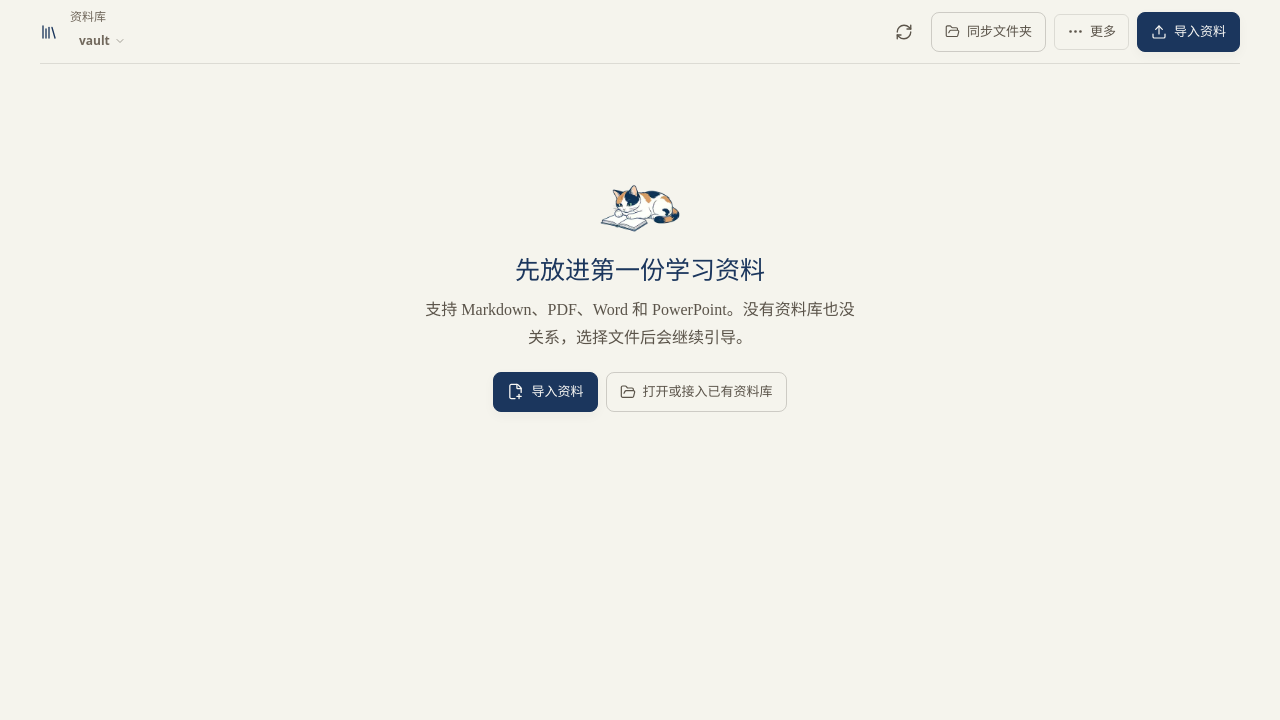
Test: 资料库文件夹同步 › 按钮会同步并渲染可行动的摘要
Click the button "同步文件夹" at coordinates (988, 32), box left=931, top=12, right=1046, bottom=52
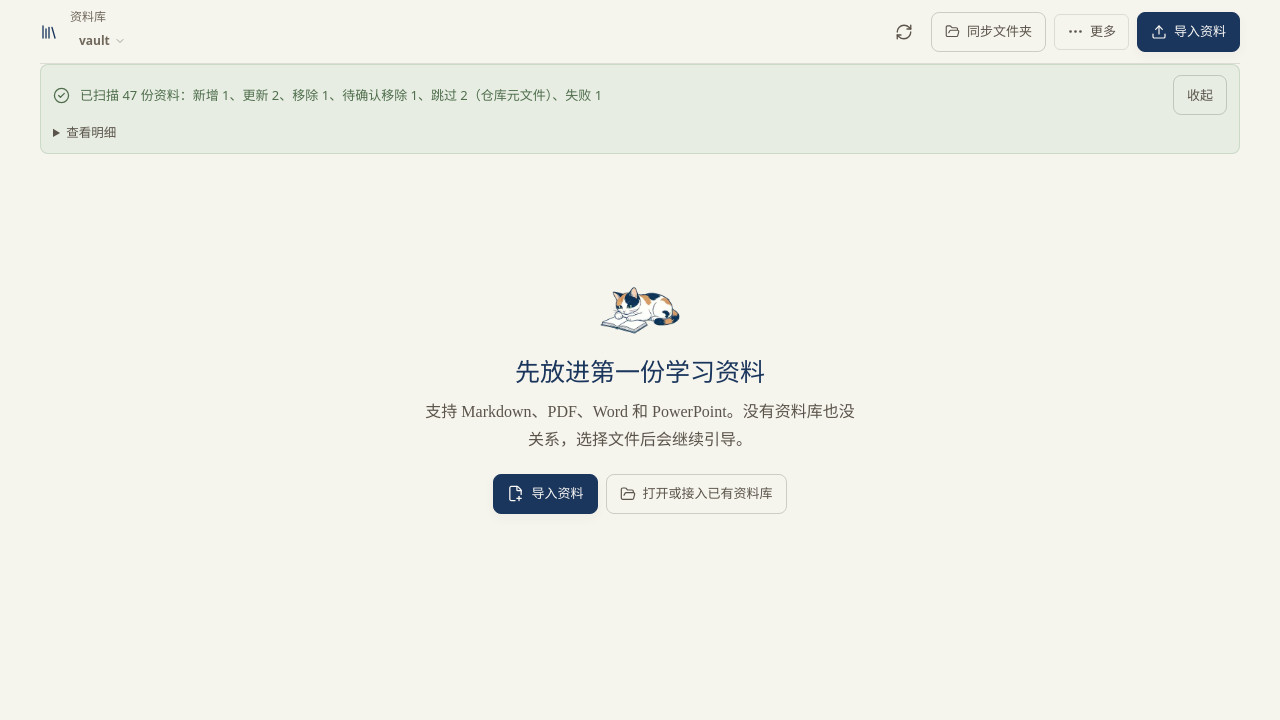
Expected: the message shows "新增 1", left=40, top=64, right=1240, bottom=154
Expected: the message shows "更新 2", left=40, top=64, right=1240, bottom=154
Expected: the message shows "移除 1", left=329, top=86, right=418, bottom=104
